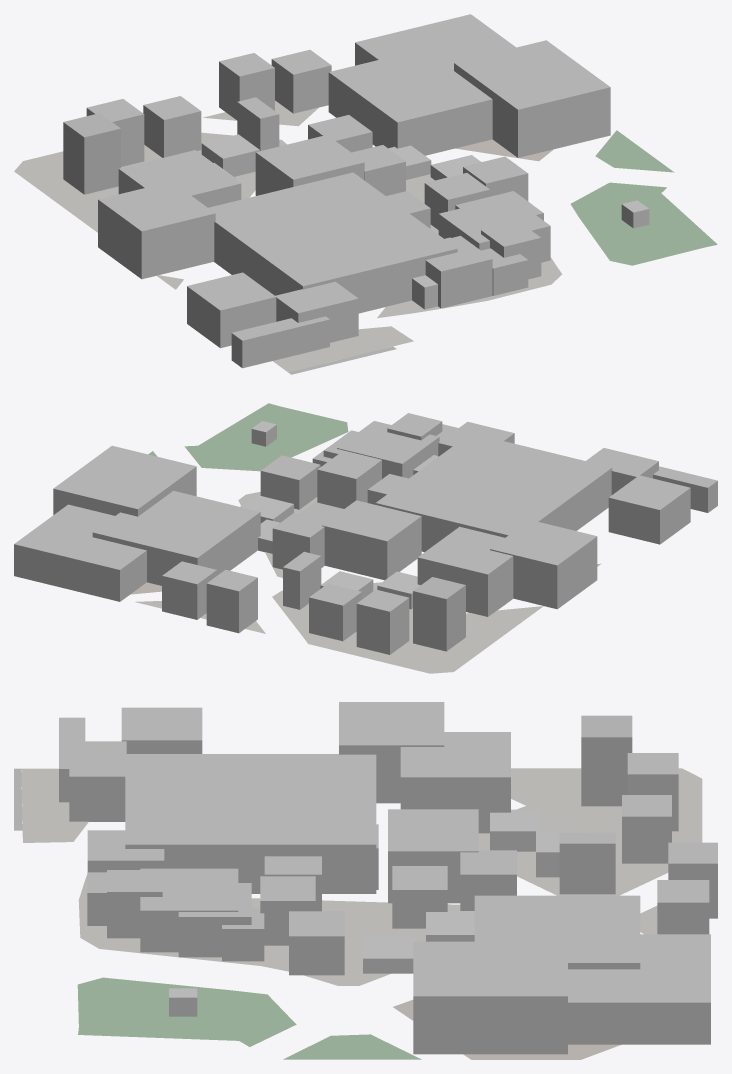
Rendered from 129_108_mid.glb.
The picture shows the model from 3 angles, top to bottom: view 1: azimuth 30°, elevation 25°; view 2: azimuth 150°, elevation 25°; view 3: azimuth 270°, elevation 25°; orthographic projection. The views are drawn at different scales.
Size of the model in its own units: 530 by 56.33 by 512.
